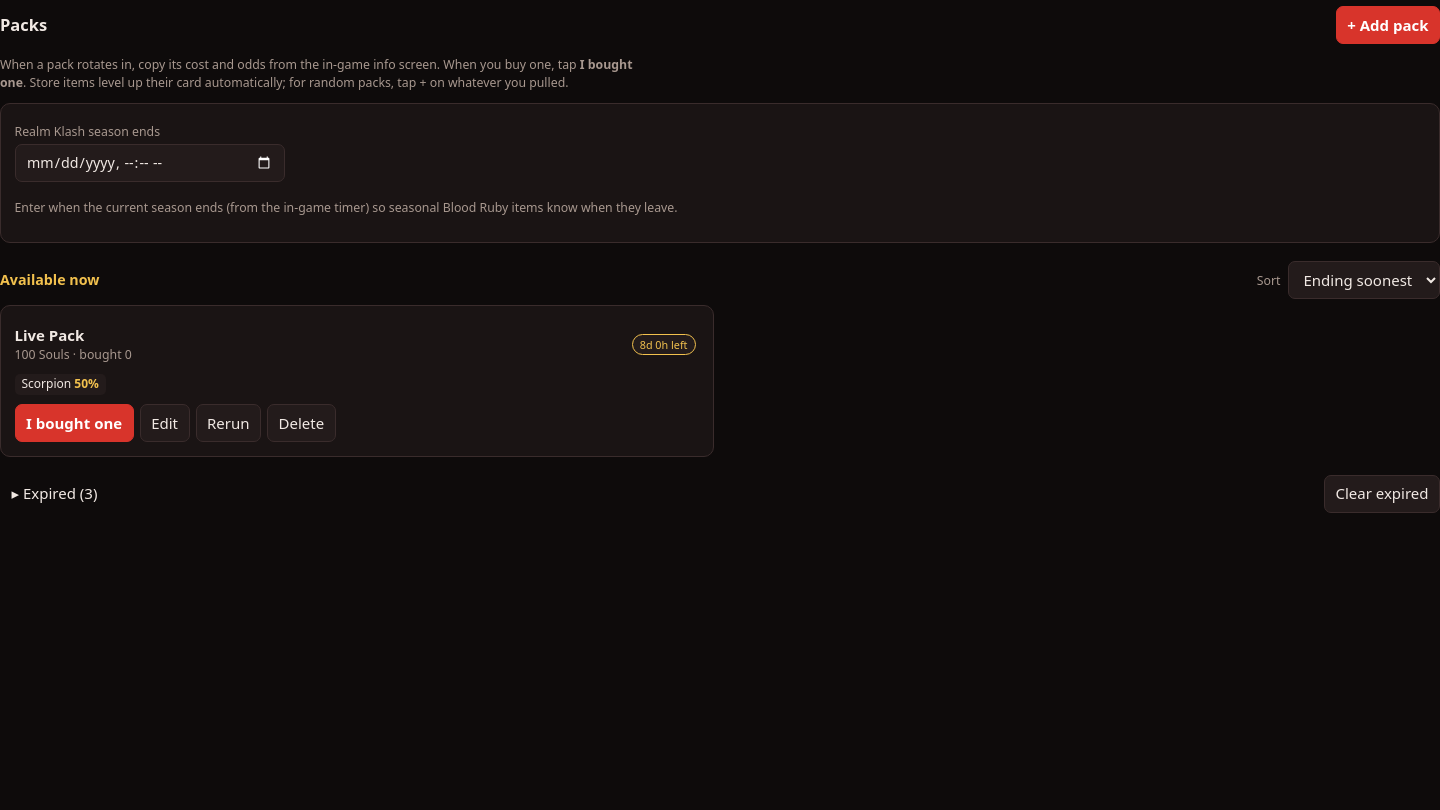
Scenario: Packs: the pack editor's Add card on a screen a sync has changed › says the card goes in as the first rarity once a sync removed the one picked
Click the button "+ Add pack" at (1388, 25), box left=1336, top=6, right=1439, bottom=44
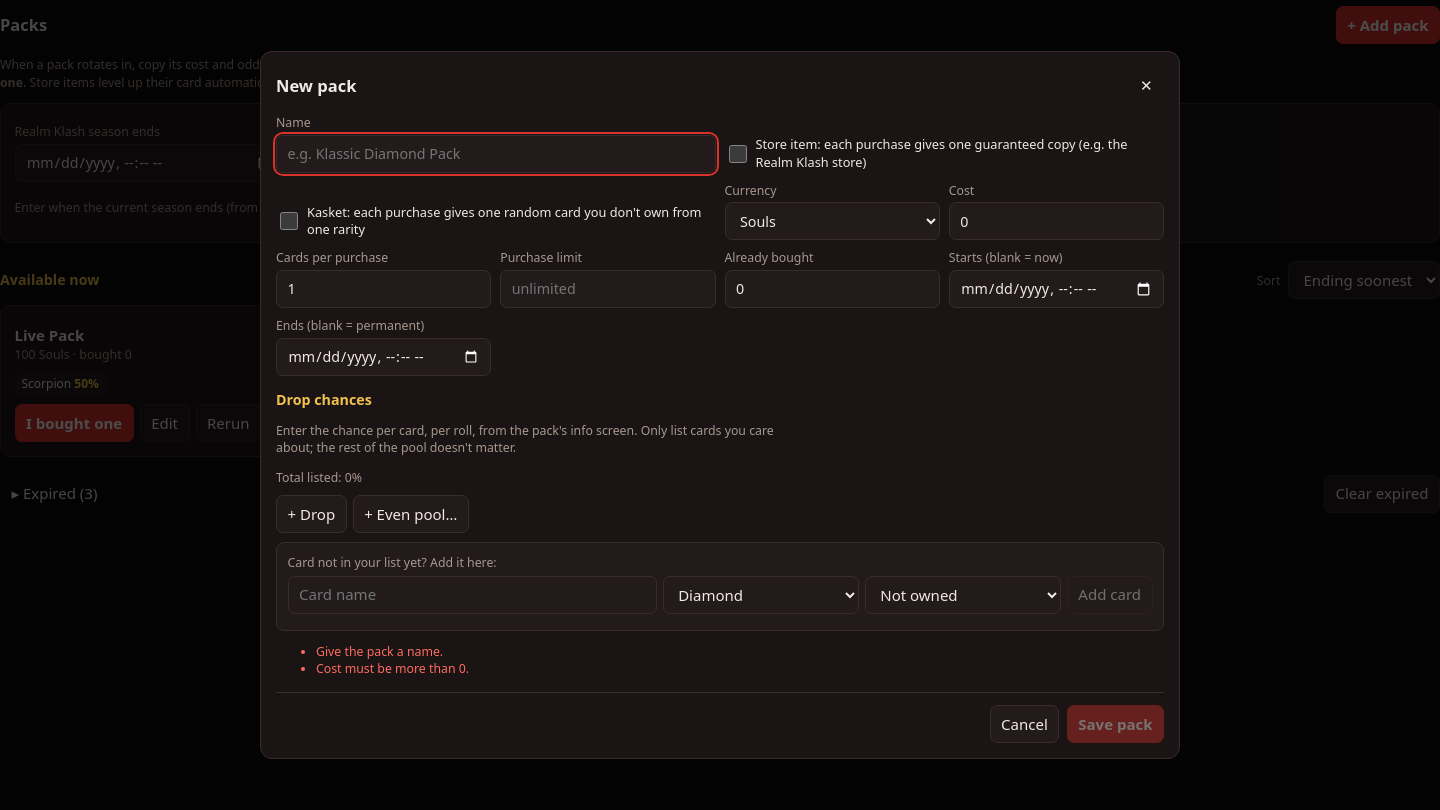
Type "Raiden, Dark" into the field with placeholder "Card name" at (472, 595), box left=288, top=576, right=657, bottom=614
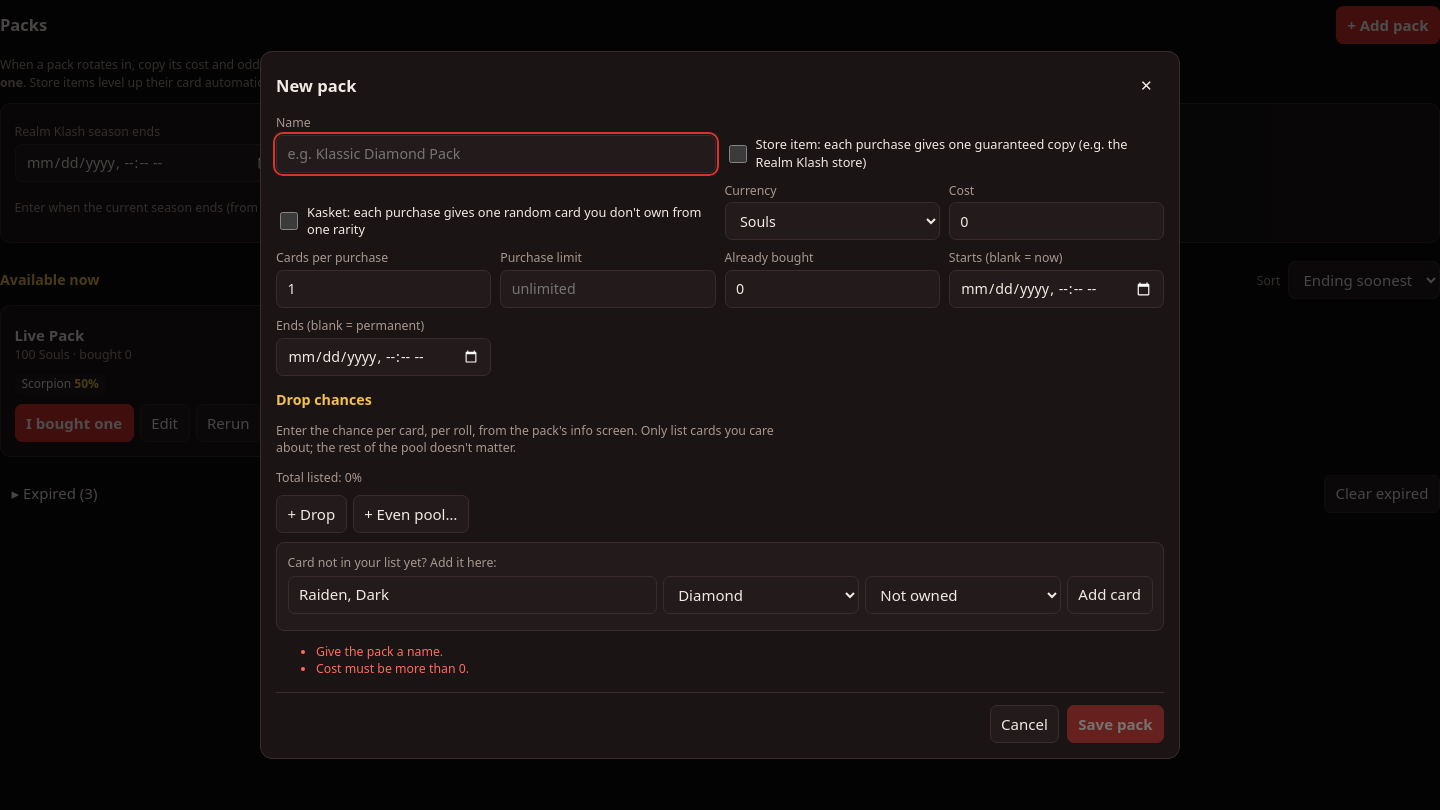
Select "Gold" in the 2nd dropdown at (761, 595), box left=663, top=576, right=859, bottom=614
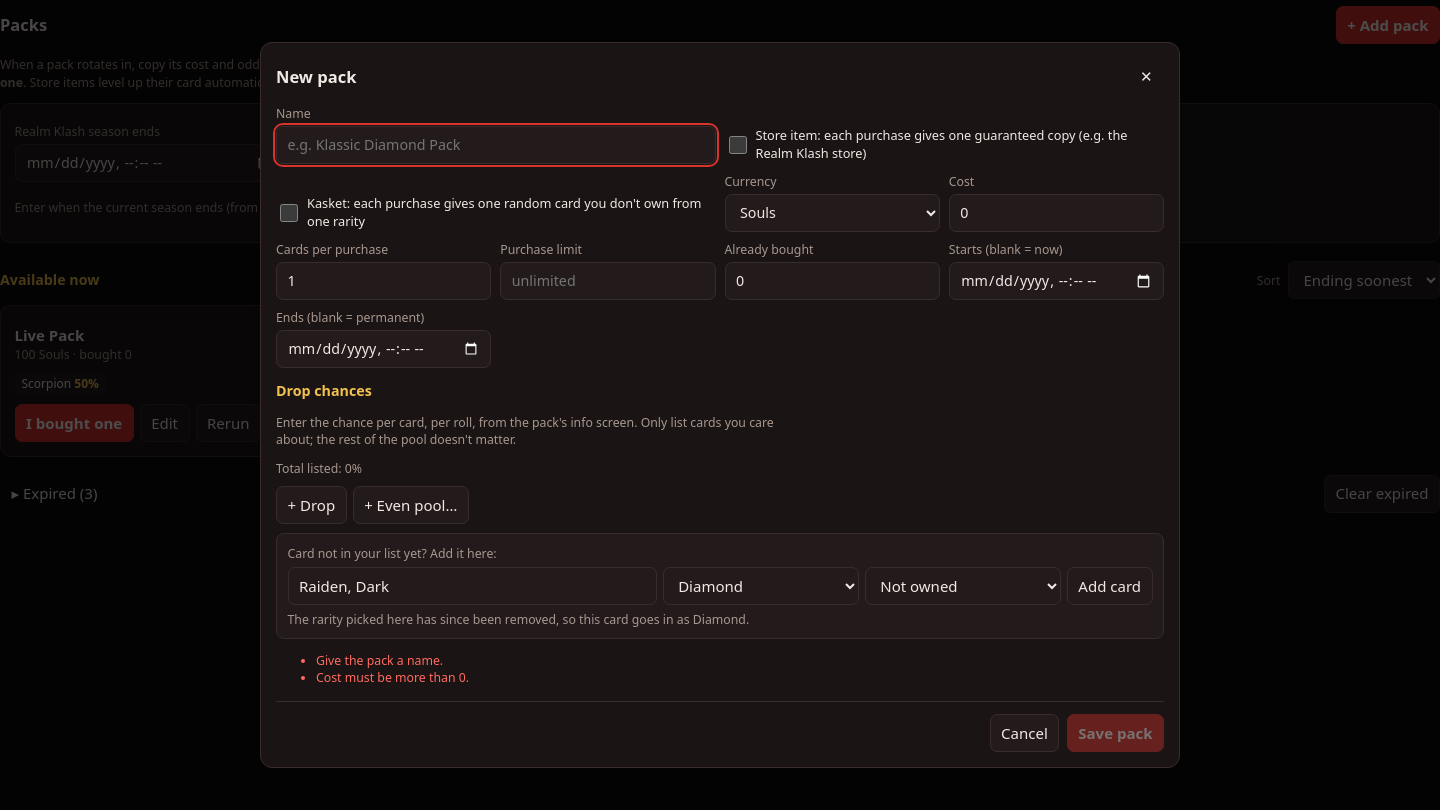
Now the text "The rarity picked here has since been removed, so this card goes in as Diamond." is shown, box left=288, top=611, right=749, bottom=628
